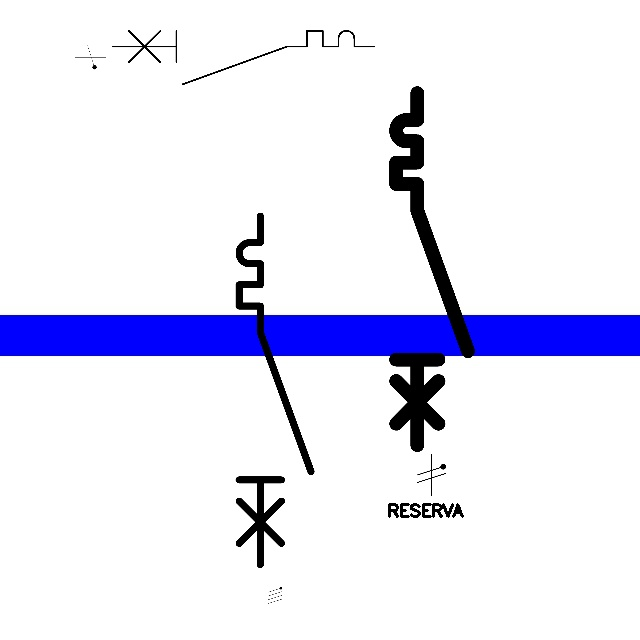interruptor_termomagnetico: (387, 84, 477, 454), (230, 207, 319, 574), (106, 24, 381, 91)
